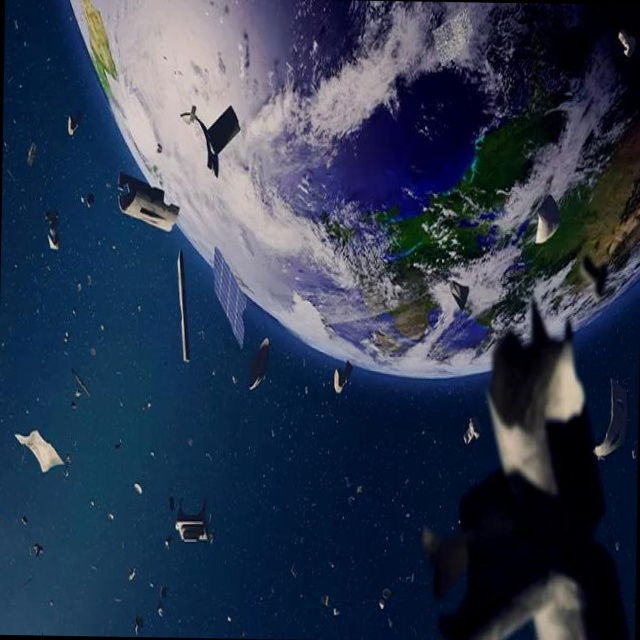large_debris: (177, 93, 243, 184), (111, 162, 183, 241), (207, 237, 250, 357), (161, 489, 220, 559), (10, 422, 72, 486), (169, 241, 196, 367), (245, 326, 273, 399), (42, 199, 67, 260), (65, 358, 94, 406), (329, 352, 356, 403), (458, 409, 483, 453), (22, 132, 41, 179), (64, 104, 84, 143)
